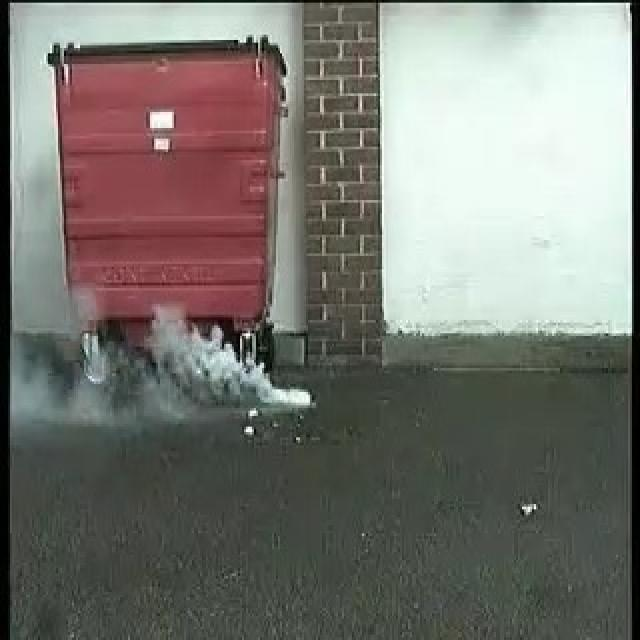smoke: (133, 304, 313, 411)
